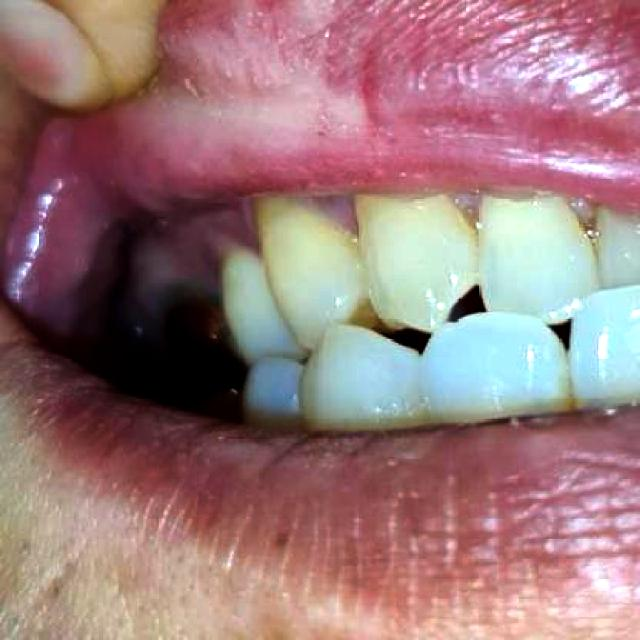Plaque: (134, 200, 257, 320)
